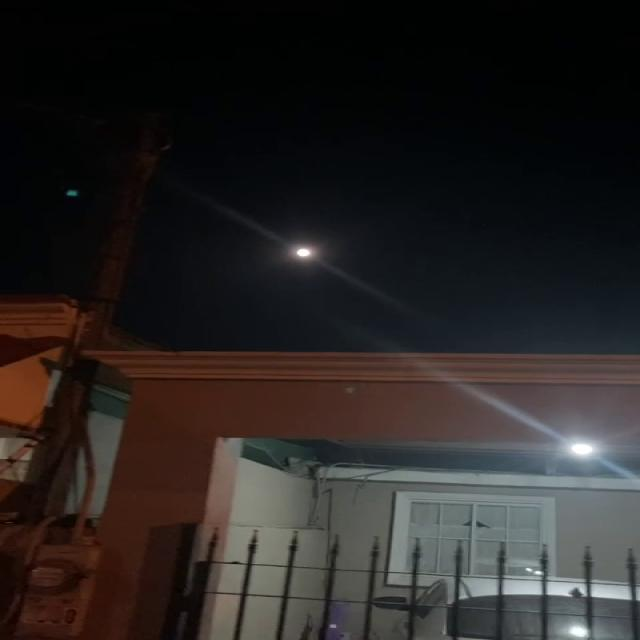moon: (287, 240, 325, 265)
